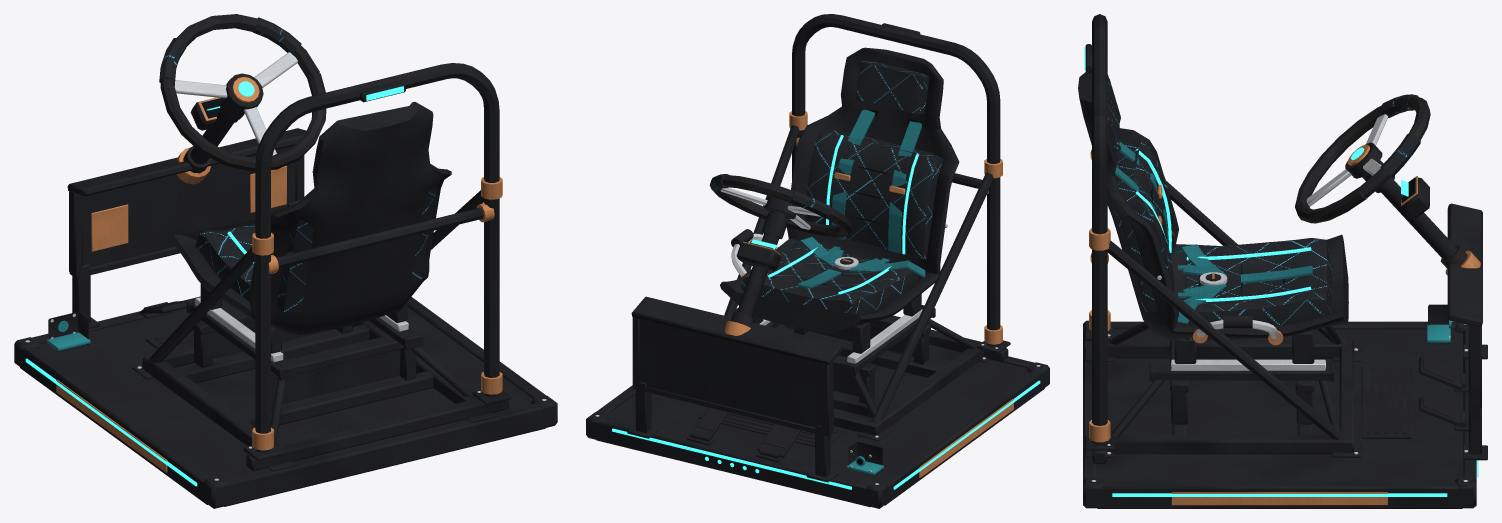
The model's file is drivers_seat_5.glb.
3 views of the same model, side by side, from view 1: azimuth 30°, elevation 25°; view 2: azimuth 150°, elevation 25°; view 3: azimuth 270°, elevation 25° (orthographic). The views are drawn at different scales.
Visible parts, largest first — view 1: Base, ShellFrame, Hoop, Steering, Backrest, Cushion, UnderGlowL; view 2: Base, Backrest, ShellFrame, Hoop, Cushion, Steering, RunningLight, Brake, Throttle, UnderGlowL; view 3: Base, Hoop, Cushion, ShellFrame, Steering, Backrest, UnderGlowR, Brake, Throttle.
Part boxes in pixels (x1=…): Base: x1=14, y1=97, x2=557, y2=508; ShellFrame: x1=171, y1=102, x2=451, y2=353; Hoop: x1=149, y1=63, x2=511, y2=460; Steering: x1=159, y1=14, x2=326, y2=171; Backrest: x1=276, y1=186, x2=437, y2=312; Cushion: x1=195, y1=224, x2=255, y2=300; UnderGlowL: x1=25, y1=358, x2=197, y2=486; Base: x1=586, y1=210, x2=1049, y2=508; Backrest: x1=805, y1=60, x2=943, y2=258; ShellFrame: x1=720, y1=47, x2=959, y2=353; Hoop: x1=724, y1=14, x2=1010, y2=422; Cushion: x1=740, y1=237, x2=925, y2=314; Steering: x1=709, y1=174, x2=852, y2=237; RunningLight: x1=612, y1=428, x2=851, y2=489; Brake: x1=757, y1=423, x2=801, y2=457; Throttle: x1=693, y1=407, x2=728, y2=438; UnderGlowL: x1=893, y1=380, x2=1040, y2=489; Base: x1=1083, y1=160, x2=1487, y2=508; Hoop: x1=1085, y1=14, x2=1346, y2=450; Cushion: x1=1172, y1=238, x2=1332, y2=340; ShellFrame: x1=1078, y1=72, x2=1348, y2=363; Steering: x1=1295, y1=94, x2=1430, y2=223; Backrest: x1=1107, y1=77, x2=1174, y2=312; UnderGlowR: x1=1112, y1=493, x2=1447, y2=496; Brake: x1=1419, y1=356, x2=1462, y2=389; Throttle: x1=1419, y1=397, x2=1461, y2=425.
Bounding box in the file's own units: 0.95 × 0.989 × 0.9791.
10 materials, 6 textured.
